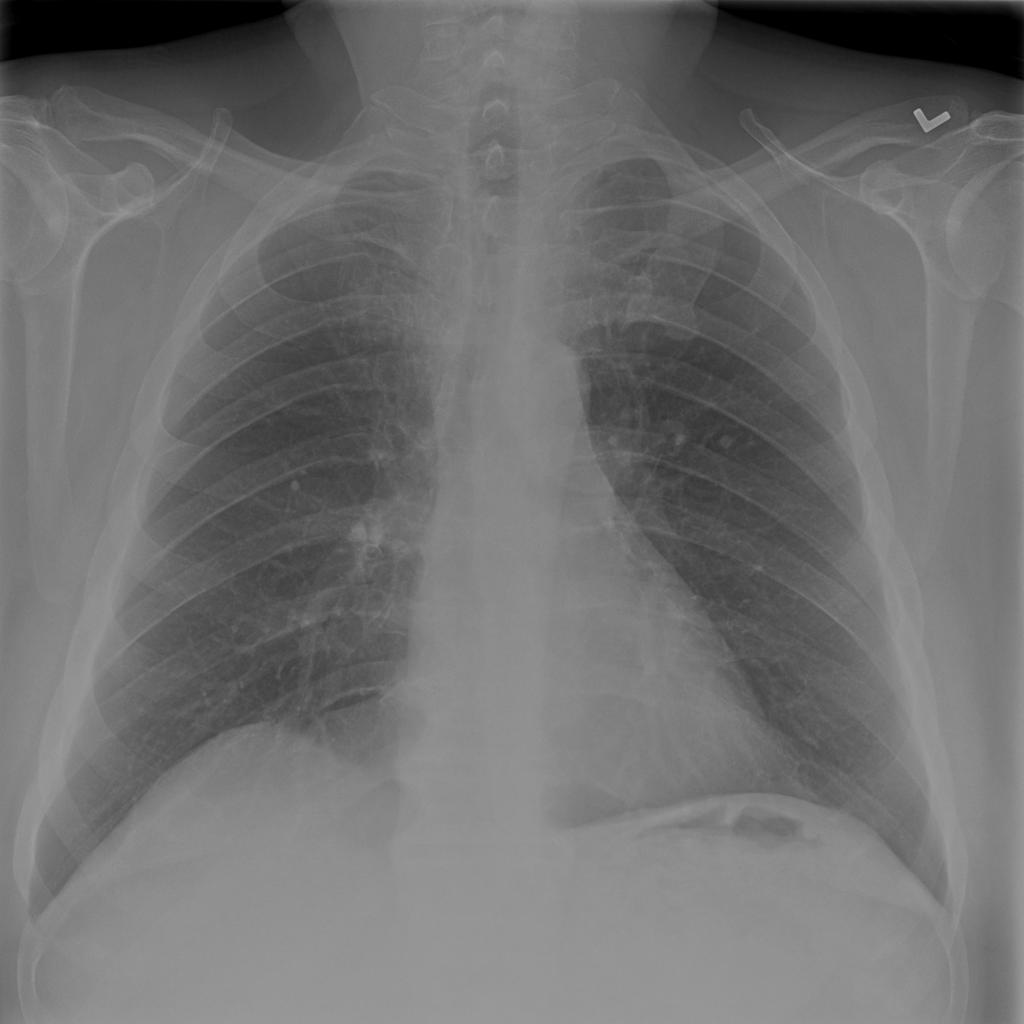nodule: (713, 423, 749, 460)
